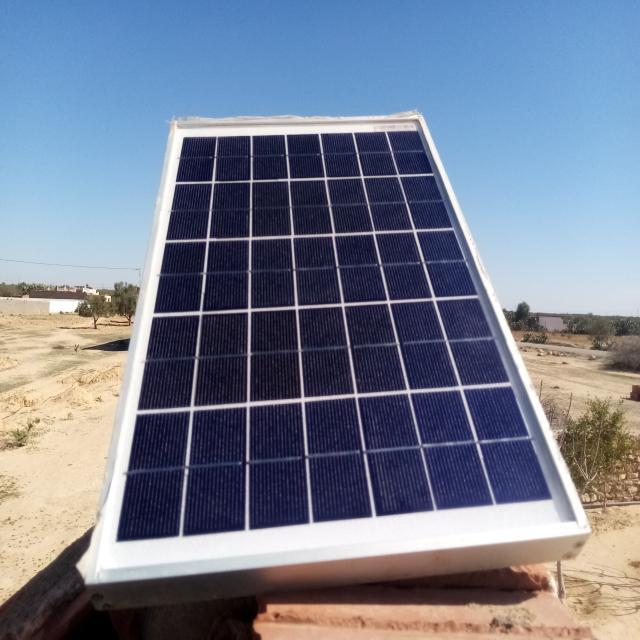no faulty: (91, 117, 591, 581)
